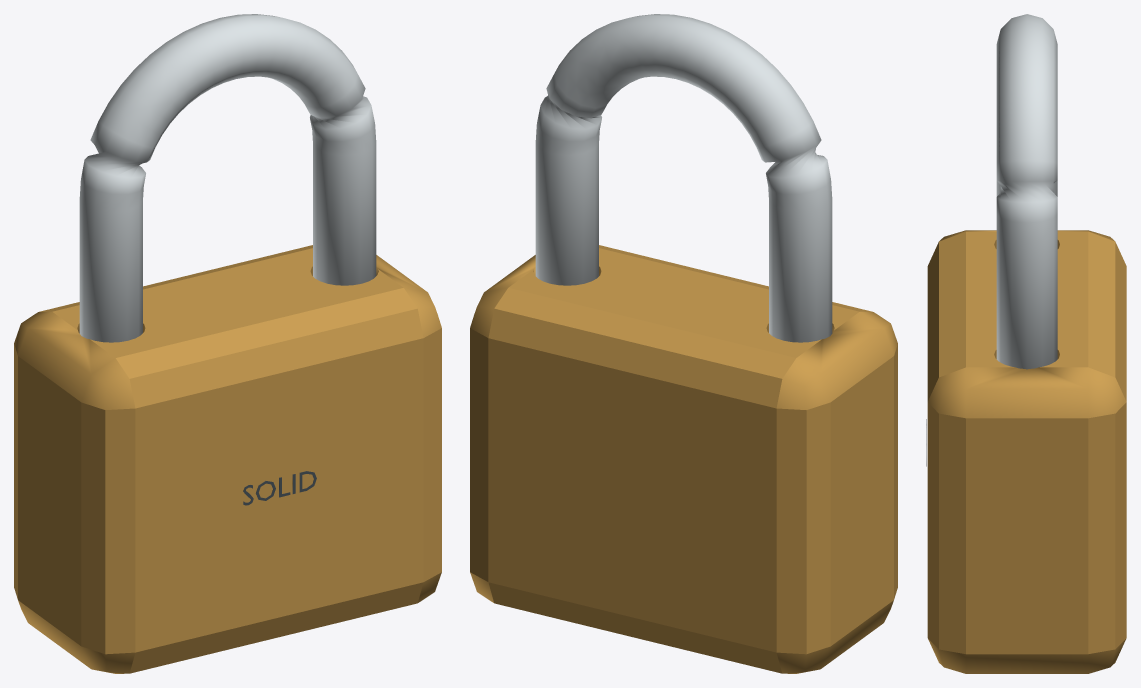
The model's file is 05_Pin_Tumbler_Padlock.glb.
3 views of the same model, side by side, from view 1: azimuth 30°, elevation 25°; view 2: azimuth 150°, elevation 25°; view 3: azimuth 270°, elevation 25° (orthographic). The views are drawn at different scales.
Parts seen in each view (by area): view 1: 01_brass_shell, 02_hardened_shackle; view 2: 01_brass_shell, 02_hardened_shackle; view 3: 01_brass_shell, 02_hardened_shackle.
Boxes of the visible parts, x1,y1,x2,y2 form: 01_brass_shell: (14,245,441,673); 02_hardened_shackle: (79,14,376,342); 01_brass_shell: (470,245,897,673); 02_hardened_shackle: (535,14,832,342); 01_brass_shell: (926,230,1126,673); 02_hardened_shackle: (996,14,1057,369).
Bounding box in the file's own units: 0.052 × 0.083 × 0.0262.
